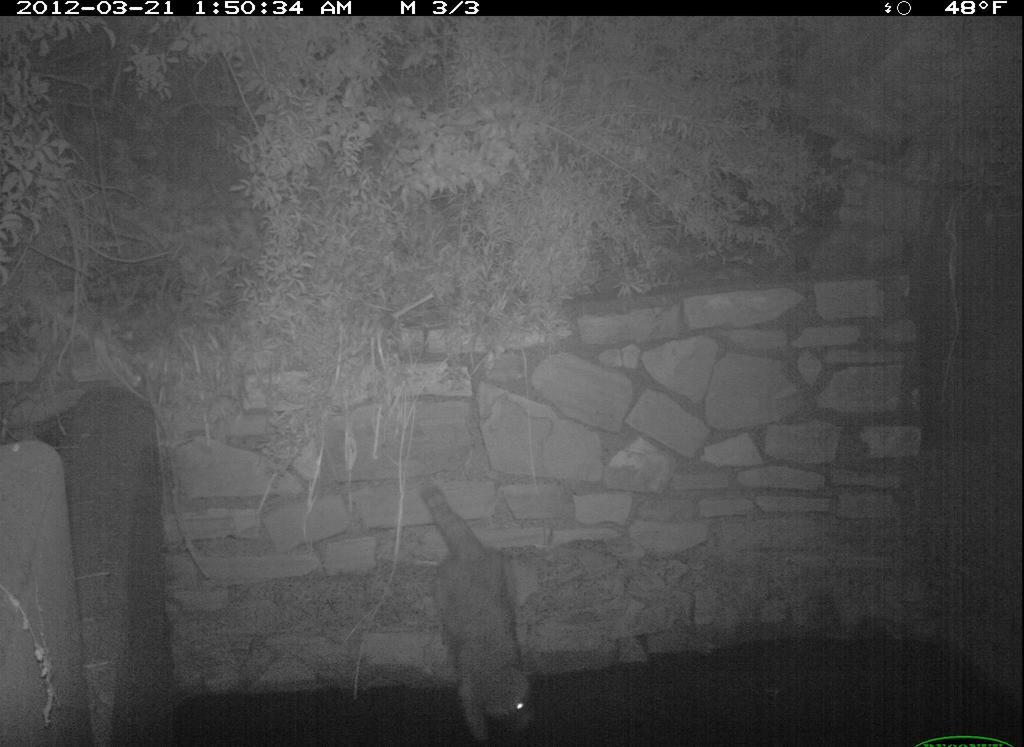raccoon: (411, 475, 555, 747)
